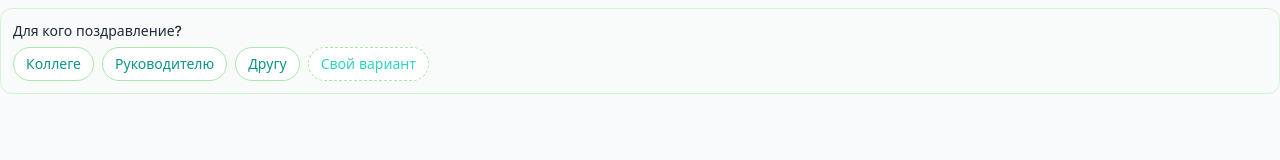
Test: карточка вопроса › один вопрос с одиночным выбором: ответ уходит по нажатию, карточка гаснет
This screenshot has width=1280, height=160.
What coordinates should you click on to do the following:
click the button "Коллеге"
I would click on:
 (54, 64)
Its box is 13,47 -> 94,81.
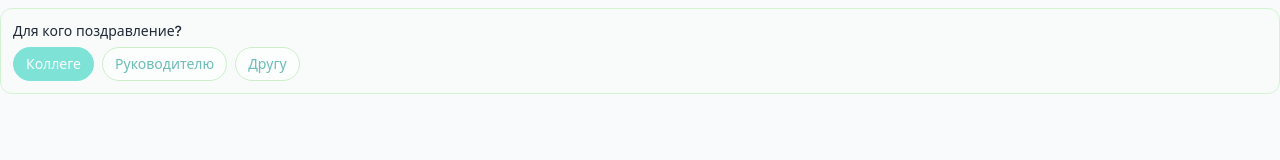
Result: the button "Другу" is disabled at 235,47 -> 300,81
